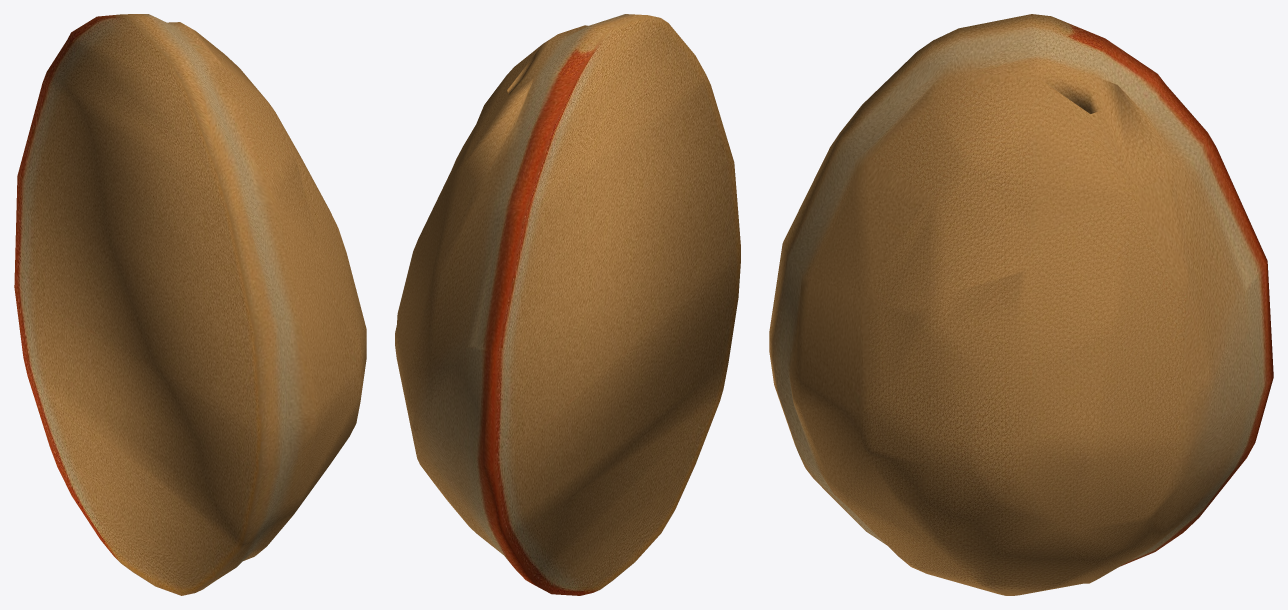
The picture shows the model from 3 angles, left to right: view 1: azimuth 30°, elevation 25°; view 2: azimuth 150°, elevation 25°; view 3: azimuth 270°, elevation 25°; orthographic projection. The views are drawn at different scales.
Parts seen in each view (by area): view 1: tripo_node_d61979ef-dfc0-47fc-a7a2-e7dca9aa331c; view 2: tripo_node_d61979ef-dfc0-47fc-a7a2-e7dca9aa331c; view 3: tripo_node_d61979ef-dfc0-47fc-a7a2-e7dca9aa331c.
Boxes of the visible parts, left/top/right/bottom form: tripo_node_d61979ef-dfc0-47fc-a7a2-e7dca9aa331c: left=14, top=14, right=366, bottom=595; tripo_node_d61979ef-dfc0-47fc-a7a2-e7dca9aa331c: left=395, top=14, right=740, bottom=595; tripo_node_d61979ef-dfc0-47fc-a7a2-e7dca9aa331c: left=769, top=14, right=1273, bottom=595.
Bounding box in the file's own units: 0.377 × 0.998 × 0.8066.
Materials: 1 (1 with a texture image).
